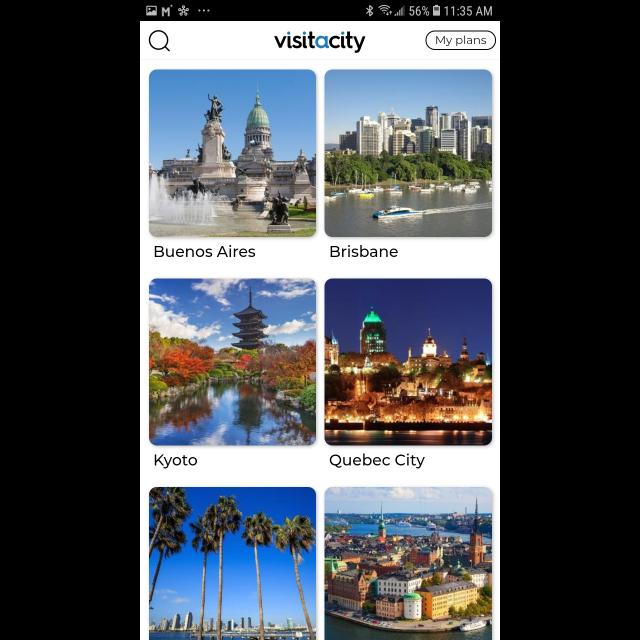icon: (149, 30, 171, 52)
image: (324, 278, 492, 446), (324, 70, 492, 238), (150, 278, 316, 446), (150, 70, 316, 238), (324, 487, 491, 640), (149, 487, 316, 640), (274, 31, 366, 53)
text: (330, 453, 424, 469), (156, 245, 256, 258), (330, 245, 398, 258), (154, 454, 198, 470)
textbutton: (426, 31, 496, 51)
uppertaskbar: (140, 1, 500, 22)
